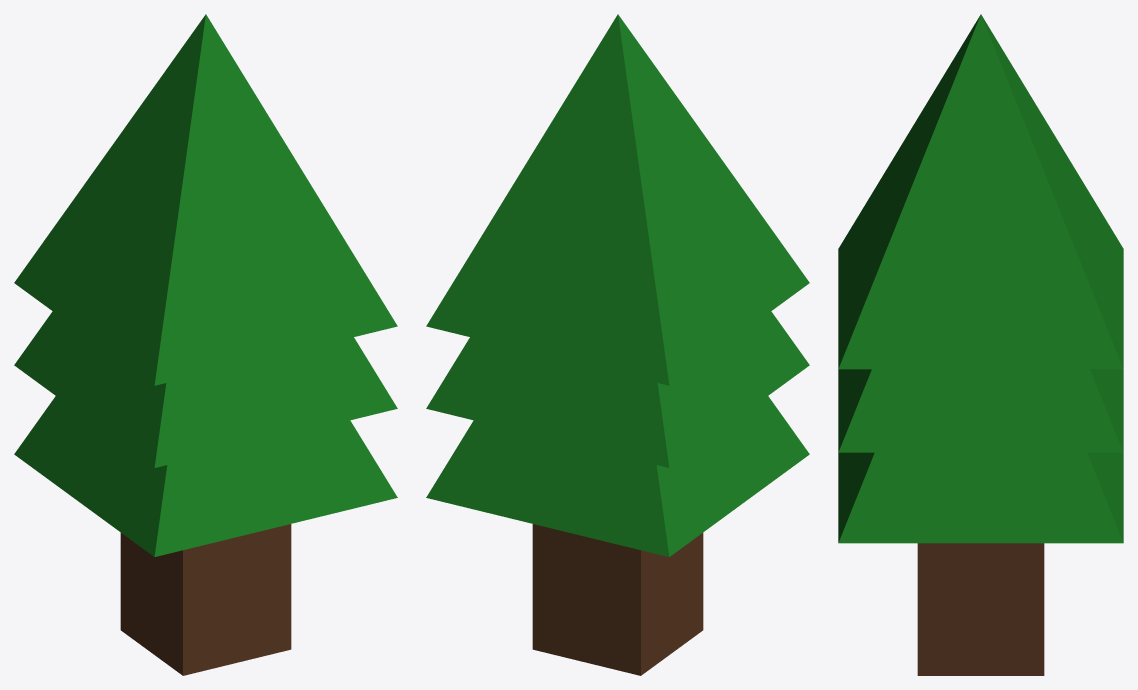
Rendered from tree.glb.
The picture shows the model from 3 angles, left to right: view 1: azimuth 30°, elevation 25°; view 2: azimuth 150°, elevation 25°; view 3: azimuth 270°, elevation 25°; orthographic projection.
Parts seen in each view (by area): view 1: LeavesC, LeavesA, LeavesB, Base; view 2: LeavesC, LeavesA, LeavesB, Base; view 3: LeavesC, LeavesA, LeavesB, Base.
Part boxes in pixels (x1=…): LeavesC: x1=14, y1=14, x2=397, y2=385; LeavesA: x1=14, y1=396, x2=397, y2=556; LeavesB: x1=14, y1=311, x2=397, y2=467; Base: x1=120, y1=524, x2=291, y2=675; LeavesC: x1=426, y1=14, x2=809, y2=385; LeavesA: x1=426, y1=396, x2=809, y2=556; LeavesB: x1=426, y1=311, x2=809, y2=467; Base: x1=532, y1=524, x2=703, y2=675; LeavesC: x1=838, y1=14, x2=1123, y2=369; LeavesA: x1=838, y1=452, x2=1123, y2=543; LeavesB: x1=838, y1=369, x2=1123, y2=452; Base: x1=917, y1=543, x2=1044, y2=675.
Bounding box in the file's own units: 2.3 × 5.66 × 2.3.
